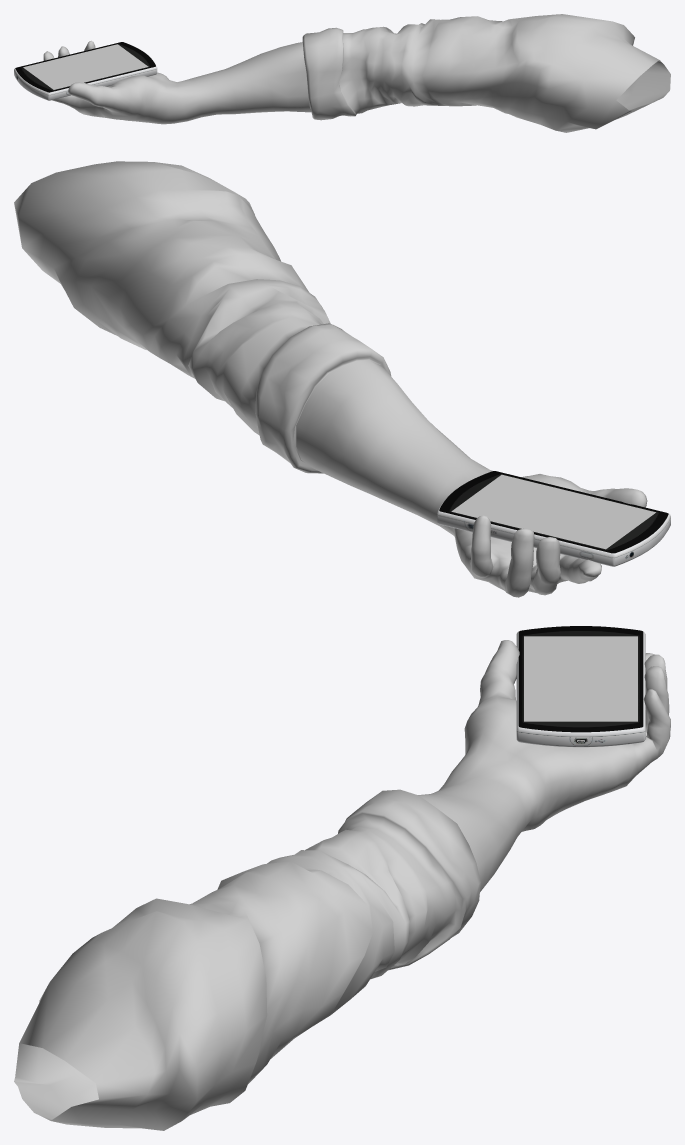
The model's file is cellphone_smartphone_terminal.dae.
3 views of the same model, one above another, from view 1: azimuth 30°, elevation 25°; view 2: azimuth 150°, elevation 25°; view 3: azimuth 270°, elevation 25° (orthographic). The views are drawn at different scales.
Parts seen in each view (by area): view 1: hand, skin, screen, phone; view 2: hand, skin, screen, phone; view 3: hand, skin, screen, phone.
Part boxes in pixels (bbox=[...]): hand: bbox=[302, 14, 670, 132]; skin: bbox=[43, 40, 311, 124]; screen: bbox=[23, 44, 148, 89]; phone: bbox=[14, 42, 157, 100]; hand: bbox=[14, 161, 391, 473]; skin: bbox=[296, 360, 647, 597]; screen: bbox=[451, 474, 655, 549]; phone: bbox=[437, 471, 670, 566]; hand: bbox=[14, 789, 480, 1130]; skin: bbox=[418, 640, 670, 891]; screen: bbox=[524, 636, 637, 721]; phone: bbox=[516, 626, 645, 747].
Size of the model in its own units: 0.7668 by 0.1458 by 0.4673.
